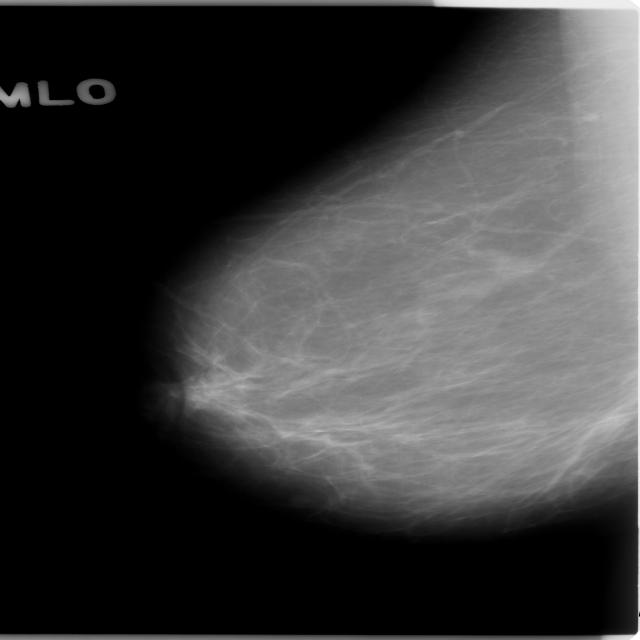normal: (119, 39, 640, 525)
